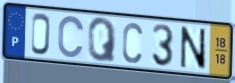0: (30, 13, 52, 57)
3: (151, 23, 175, 68)
C: (56, 14, 86, 60), (121, 20, 144, 65)
N: (180, 25, 208, 72)
Q: (87, 16, 118, 64)
